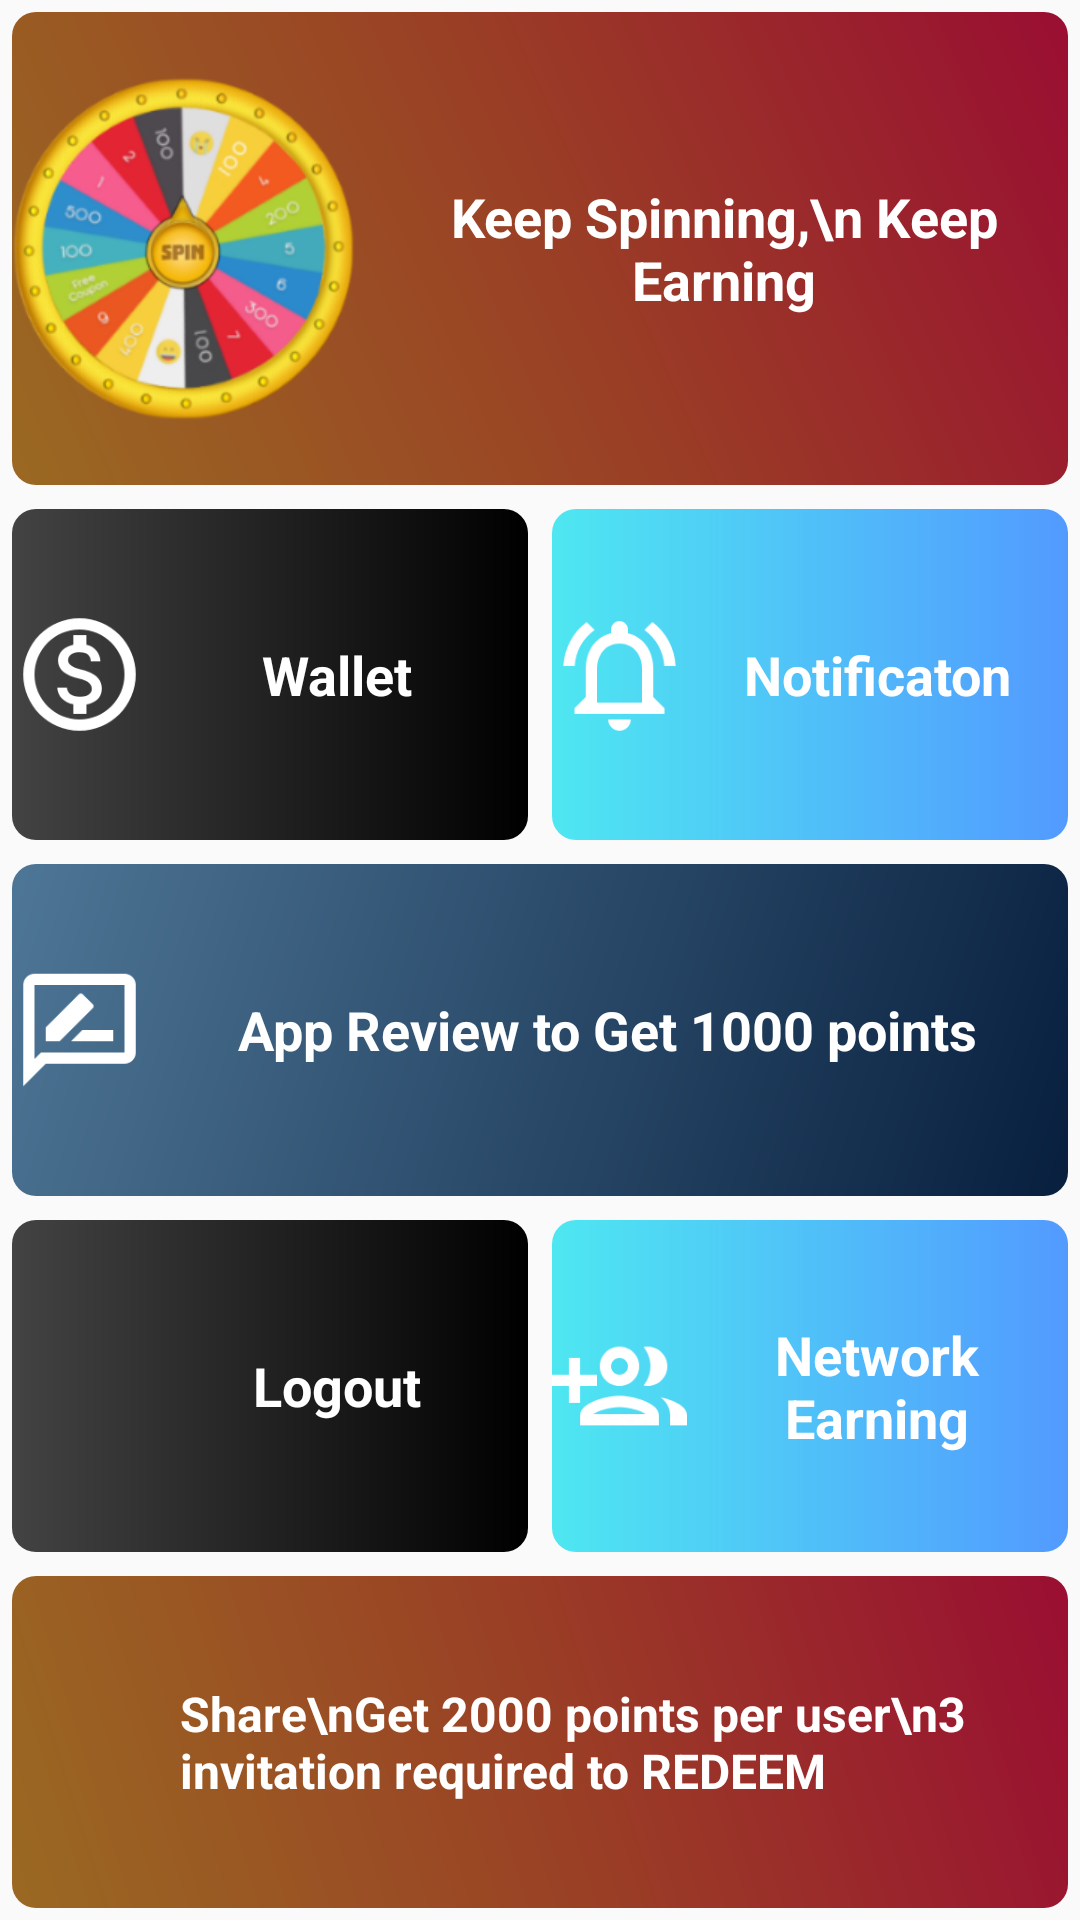

Locate icon controls on the screen. Image size 1080px×1920px, boxes as {"x1": x1, "y1": y1, "x2": x2, "y2": y2}.
notifications: {"x1": 563, "y1": 621, "x2": 676, "y2": 731}
